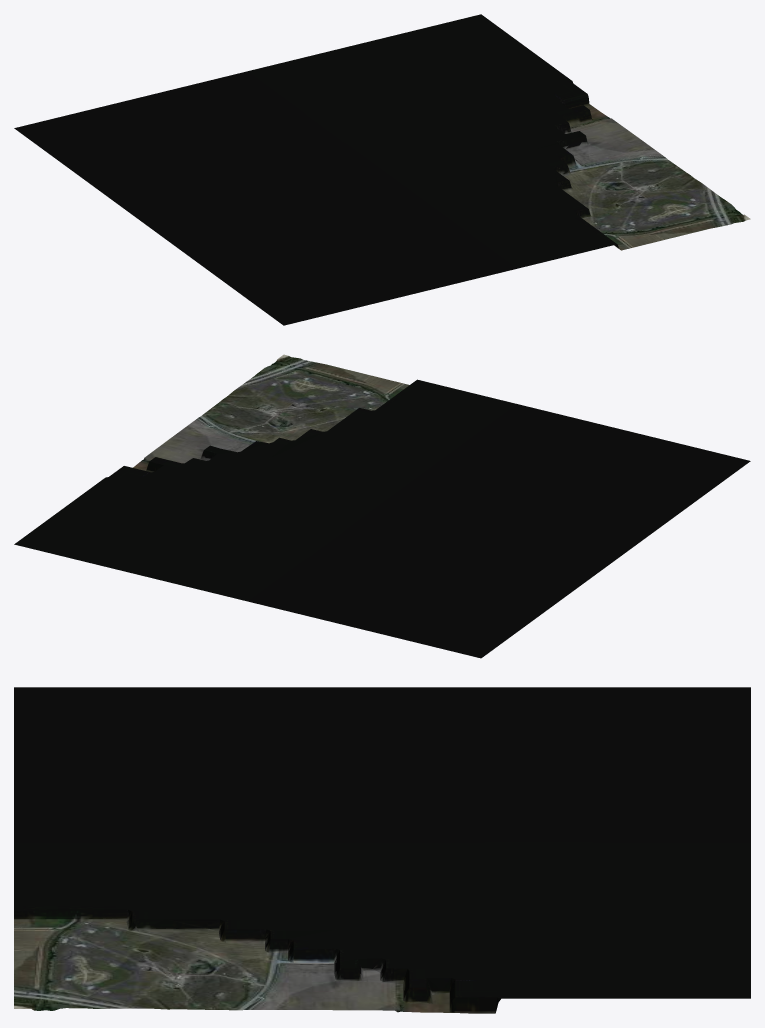
Rendered from map_10_247_427.dae.
The picture shows the model from 3 angles, top to bottom: view 1: azimuth 30°, elevation 25°; view 2: azimuth 150°, elevation 25°; view 3: azimuth 270°, elevation 25°; orthographic projection. The views are drawn at different scales.
Parts seen in each view (by area): view 1: Ter0; view 2: Ter0; view 3: Ter0.
Part boxes in pixels (x1,y1,x2,y2): Ter0: (14, 14, 750, 325); Ter0: (14, 354, 750, 658); Ter0: (14, 687, 750, 1013).
Size of the model in its own units: 2044 by 2044 by 47.15.
Materials: 4 (4 with a texture image).
